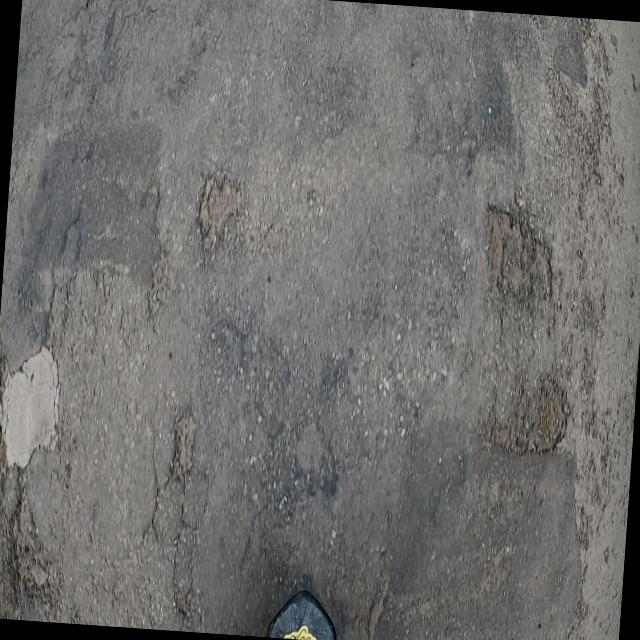Lubang: (0, 468, 48, 617), (488, 207, 551, 303), (491, 374, 566, 452), (198, 177, 242, 250), (172, 411, 195, 476)
